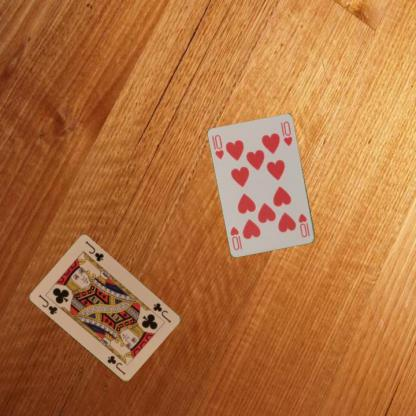10h: (296, 211, 311, 239), (212, 132, 225, 161)
Jc: (36, 292, 59, 316), (151, 300, 173, 324)
